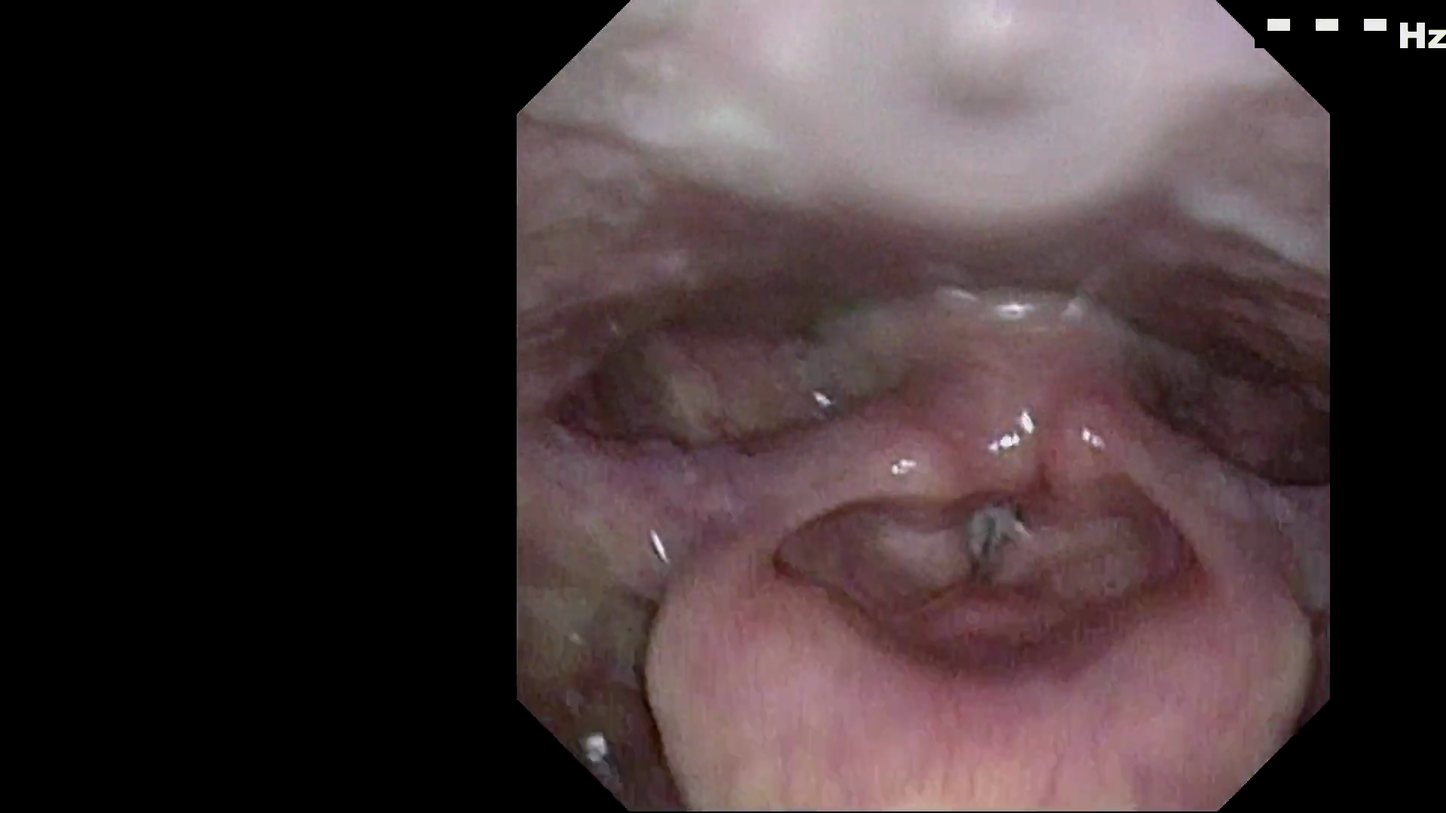epiglottis: (675, 570, 1248, 757), (699, 369, 1249, 536)
